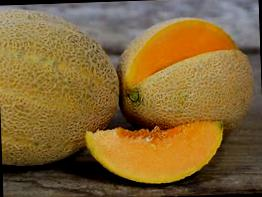Melon Ripe: (0, 5, 122, 168), (119, 12, 256, 124), (83, 119, 226, 186)
